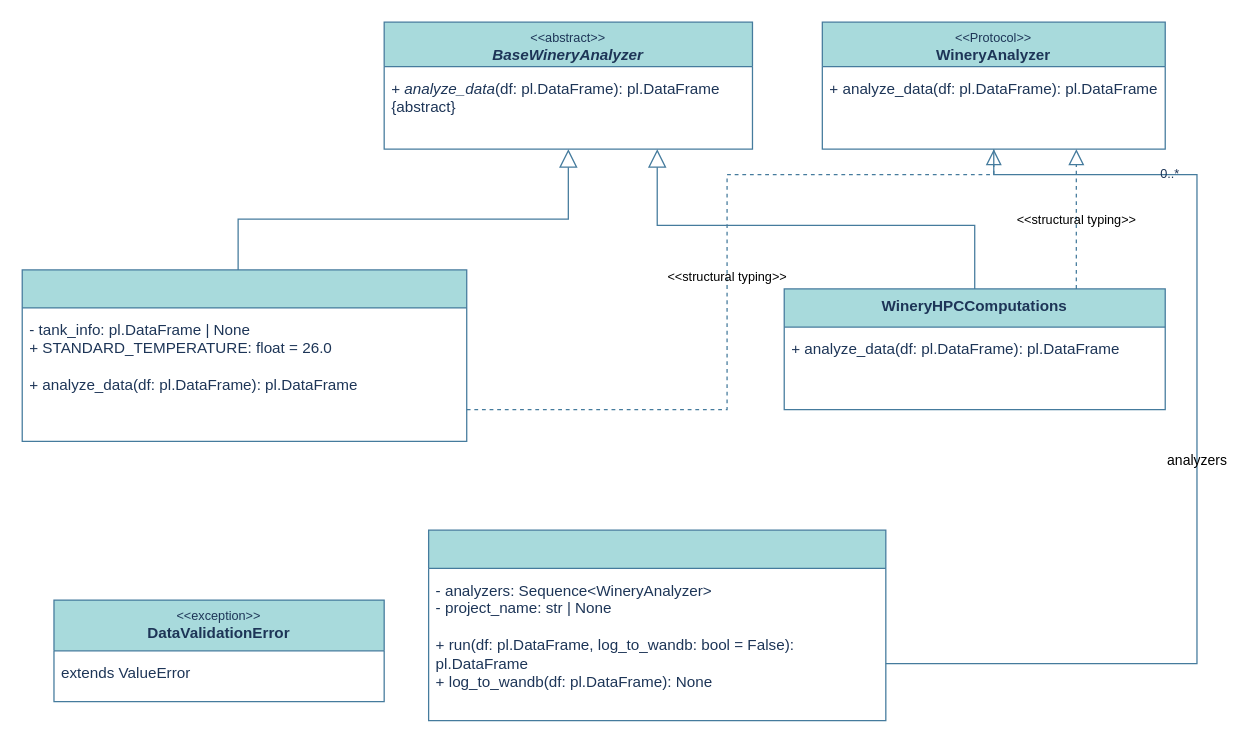
The diagram is 1248 pixels wide and 747 high, and some of its shapes have lost their labels. The shapes that lost their labels are listed below. From the top down, each one's box as (x1, y1, x2, y2) in pixels, then its label:
(21, 269, 467, 441): WineryTransformer
(427, 529, 886, 721): WineryPipeline
